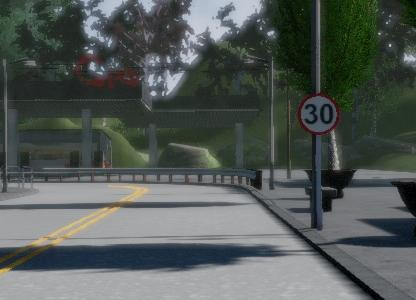Speed_30: (291, 81, 352, 141)
